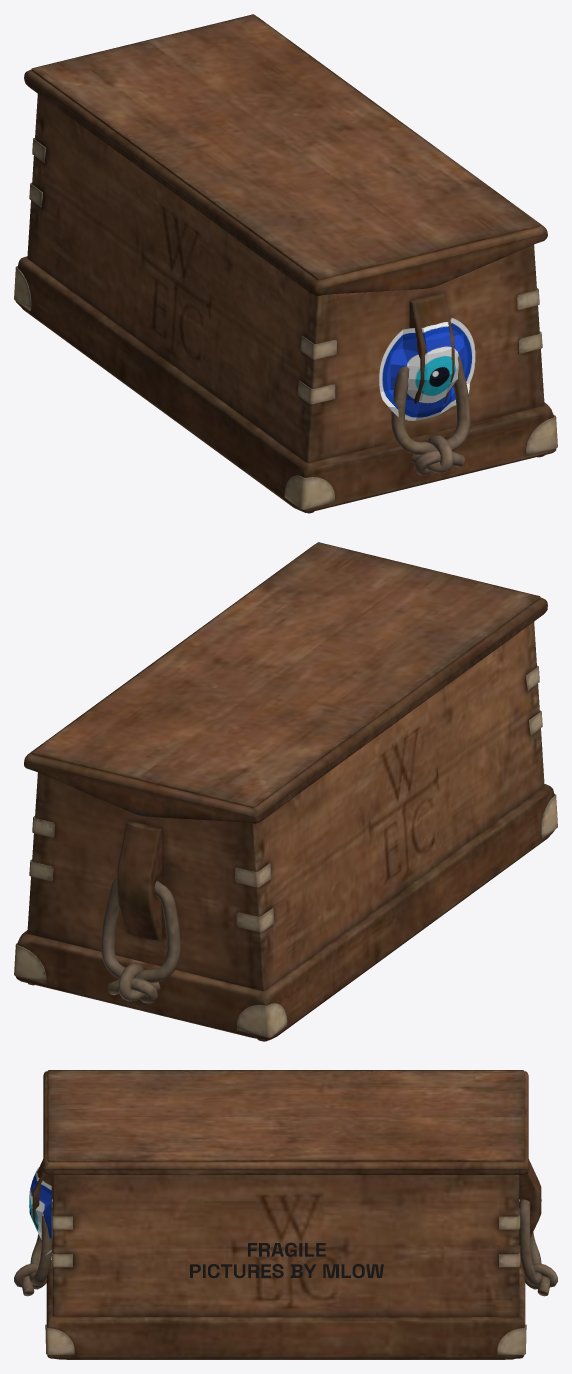
File: nyb_dumbo_crate2.glb
3 views of the same model, one above another, from view 1: azimuth 30°, elevation 25°; view 2: azimuth 150°, elevation 25°; view 3: azimuth 270°, elevation 25° (orthographic). The views are drawn at different scales.
Visible parts, largest first — view 1: wooden_crate_02_crate, stk_nazar_die.png; view 2: wooden_crate_02_crate; view 3: wooden_crate_02_crate, stk_lbl_5cbf4d3e55.png, stk_nazar_die.png.
Part boxes in pixels (x1,y1,x2,y2): wooden_crate_02_crate: [14, 14, 557, 513]; stk_nazar_die.png: [379, 318, 475, 420]; wooden_crate_02_crate: [14, 542, 557, 1041]; wooden_crate_02_crate: [14, 1070, 557, 1359]; stk_lbl_5cbf4d3e55.png: [190, 1242, 383, 1278]; stk_nazar_die.png: [29, 1167, 51, 1259].
Size of the model in its own units: 0.5291 by 0.464 by 1.17.
Materials: 3 (3 with a texture image).
